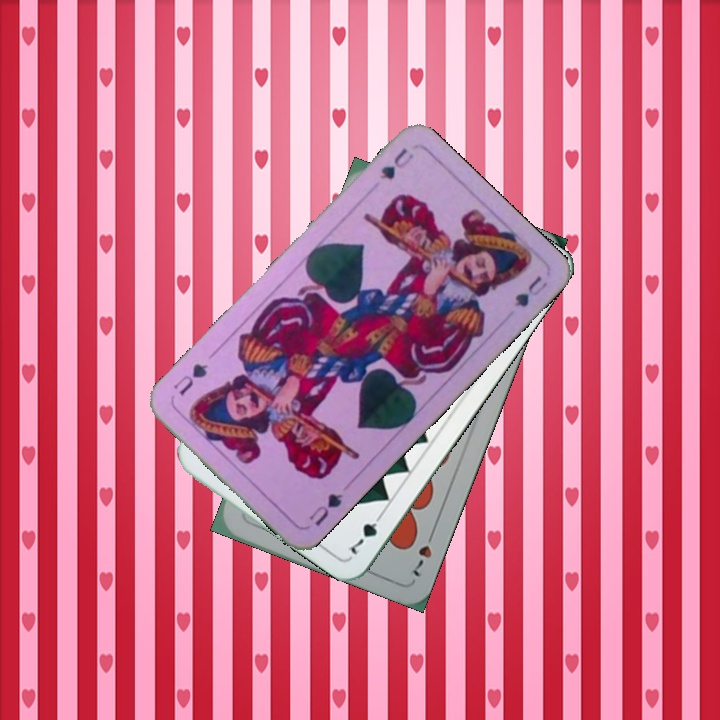G7: (343, 507, 387, 558)
GU: (305, 489, 345, 529), (375, 144, 416, 183)
H7: (405, 525, 438, 580)
